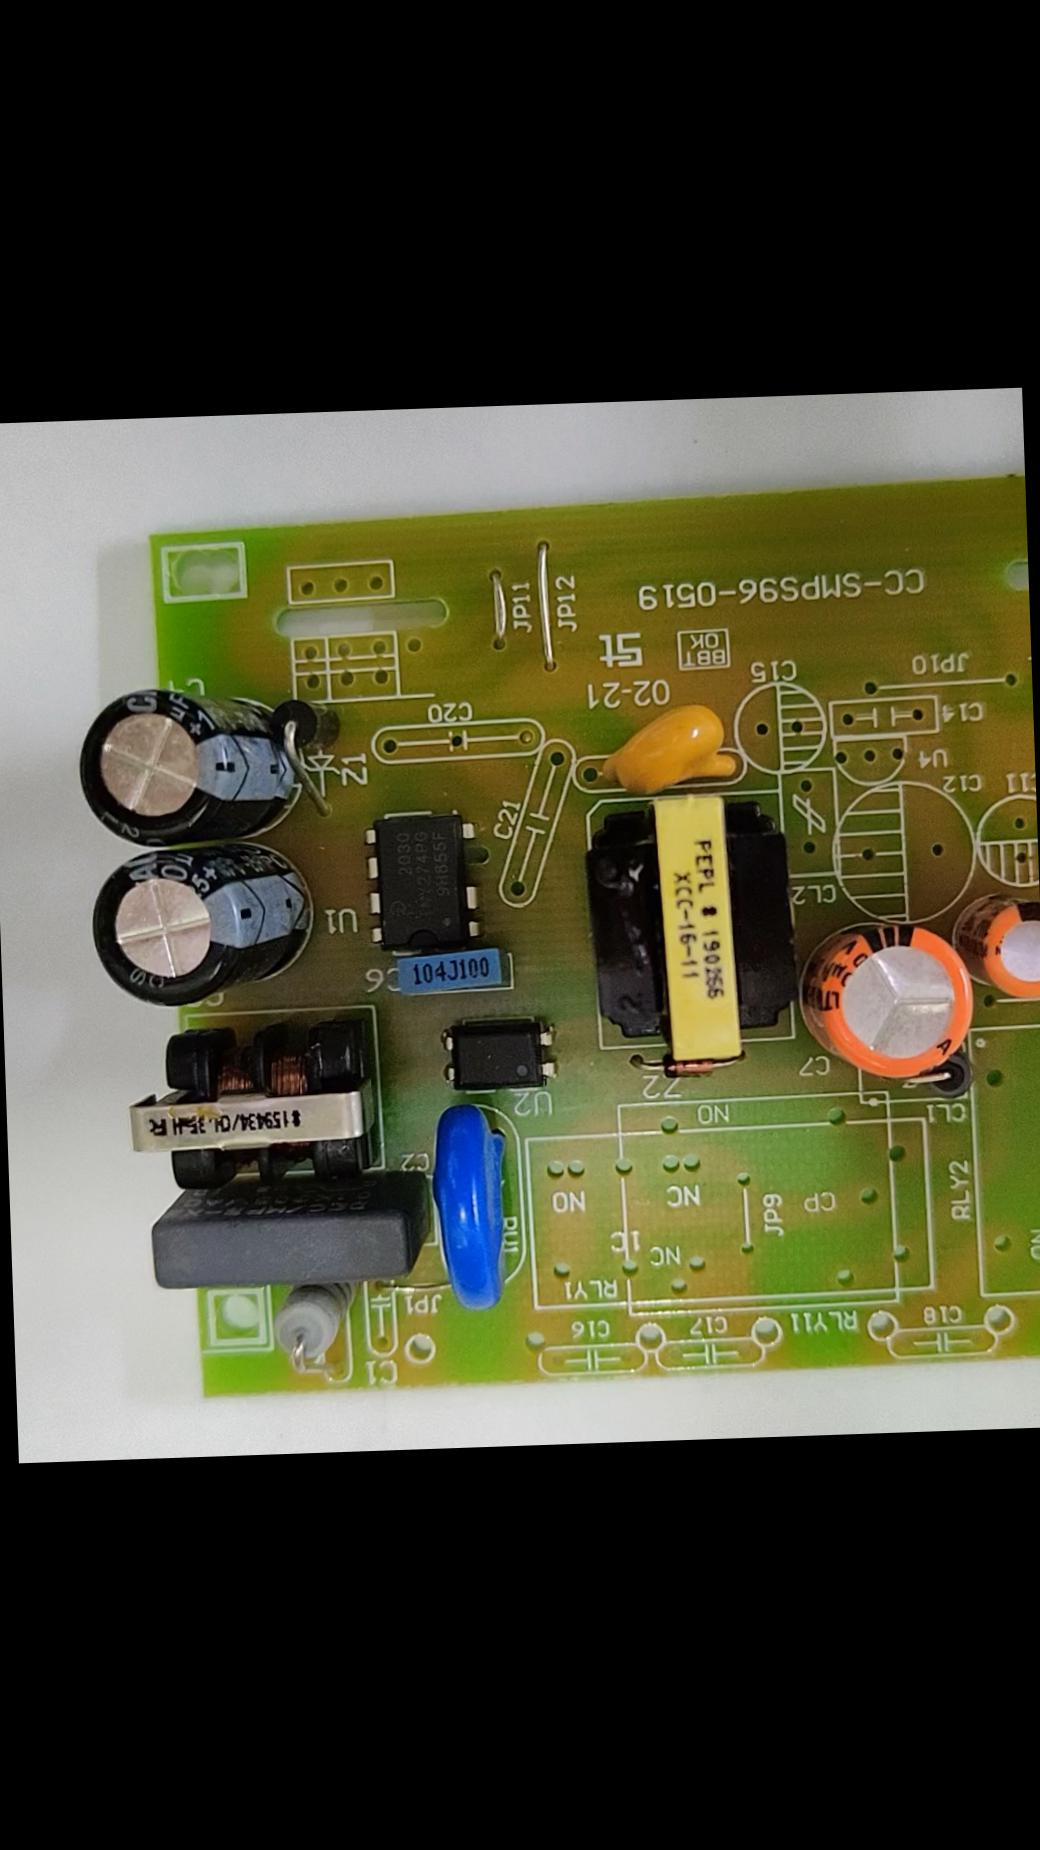Cap1: (789, 908, 979, 1090)
Cap2: (971, 895, 1039, 1011)
Cap3: (76, 834, 339, 1018)
Cap4: (62, 673, 335, 847)
MOSFET: (356, 794, 486, 958)
Mov: (422, 1094, 536, 1321)
Resistor: (272, 1288, 352, 1366)
Transformer: (579, 784, 803, 1080), (107, 1008, 390, 1205)
